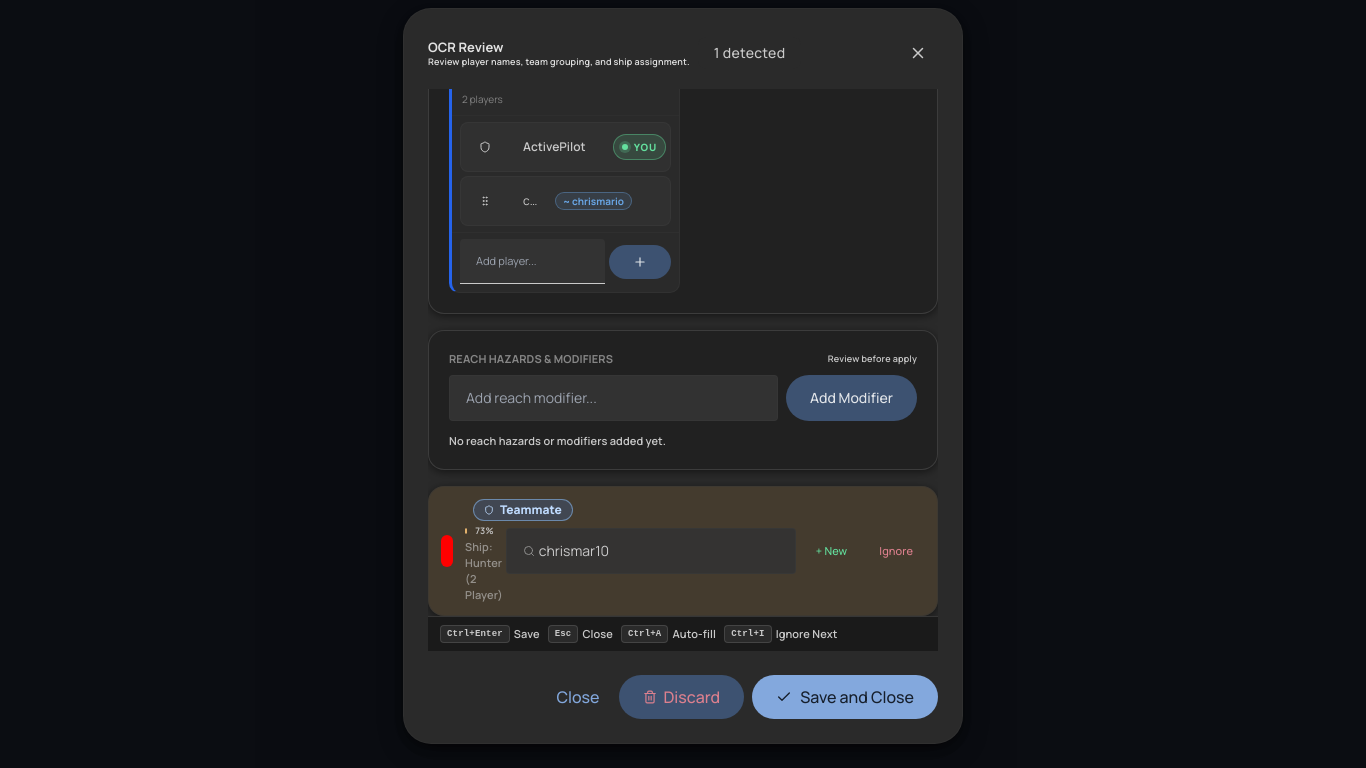
Test case: OcrCorrectionModal › previews corrected player matches in team assignment while keeping OCR confidence visible
(page scrolled)
Step 1. Replace the text in the field with placeholder "Search roster or type name..." with "chrismario" → (659, 551), box [539,541,779,561]
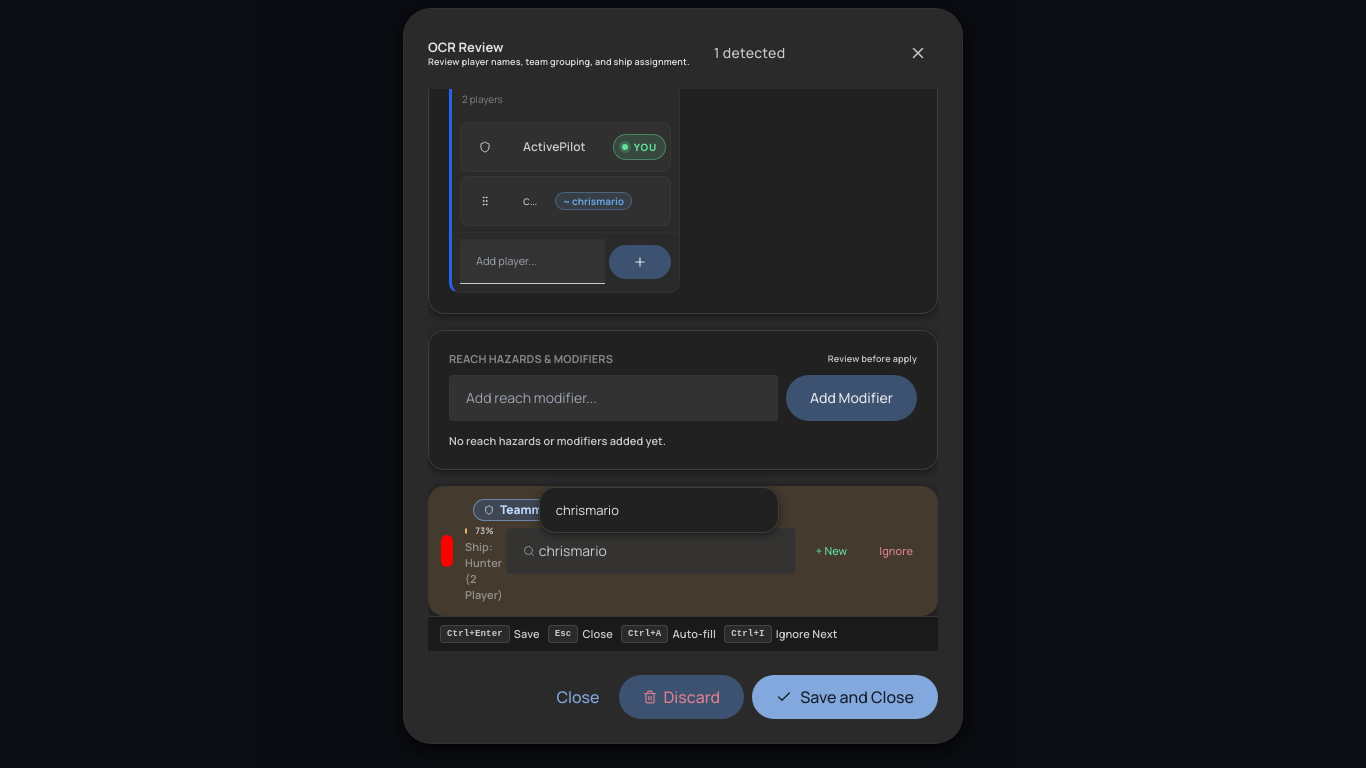
Step 2. Press Enter in the field with placeholder "Search roster or type name...", box [539,541,779,561]
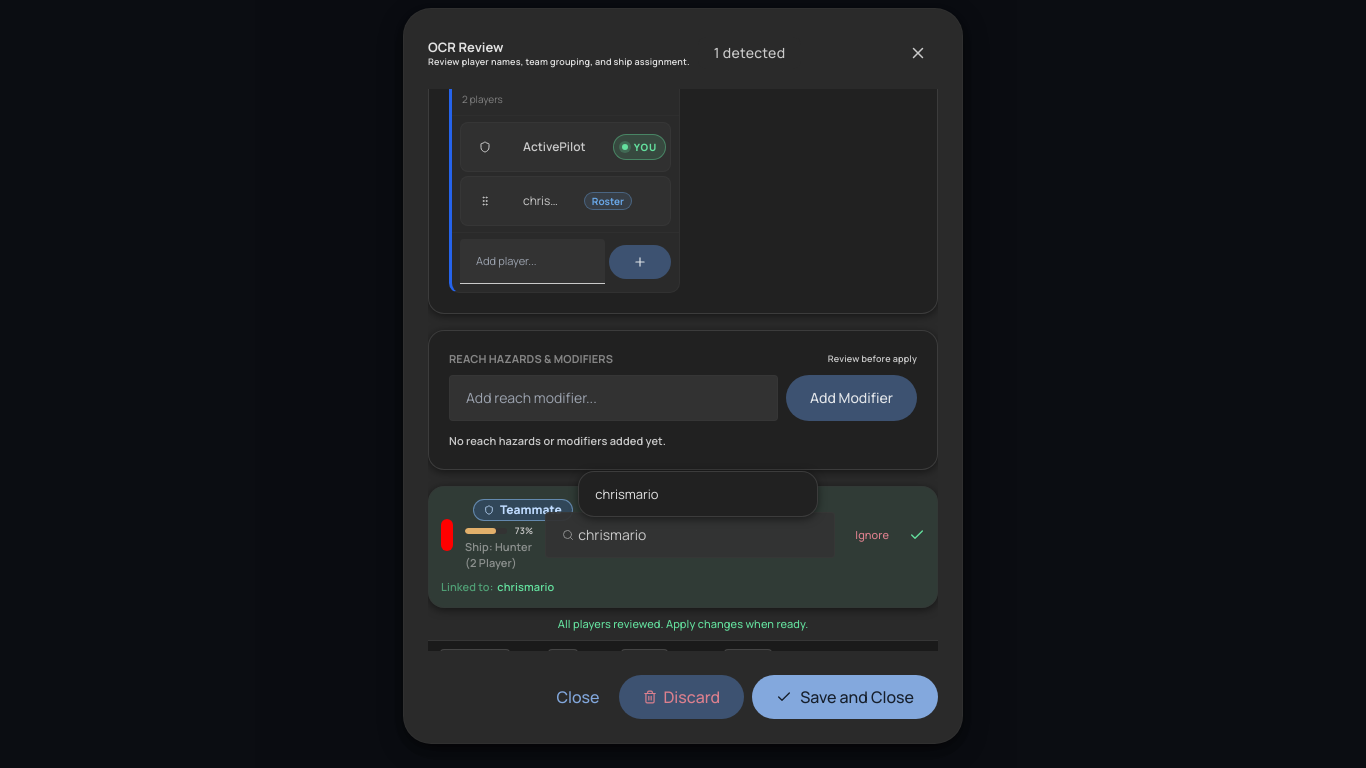
Expected: the progress indicator named "ocr confidence 73%" is shown, [465,528,507,534]
Now the text "Roster" is shown, box [584,192,632,210]
